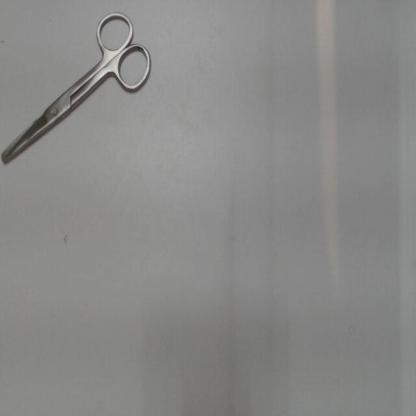Dressing Scissors: (0, 4, 161, 174)
